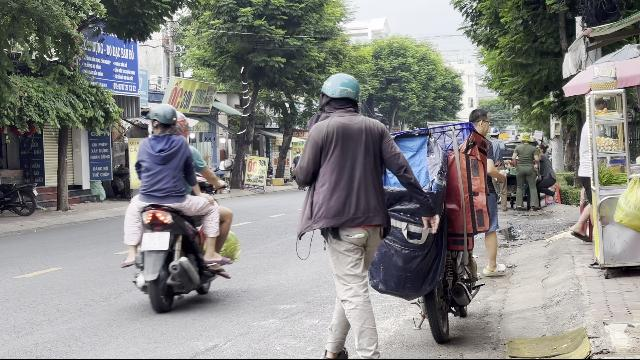helmet: (147, 102, 179, 136)
licenseplate: (141, 232, 169, 250)
motorcyclist: (117, 99, 240, 312)
